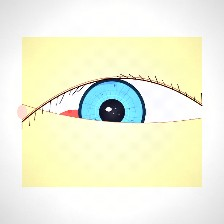hemorrhage_spot: (44, 100, 107, 149)
